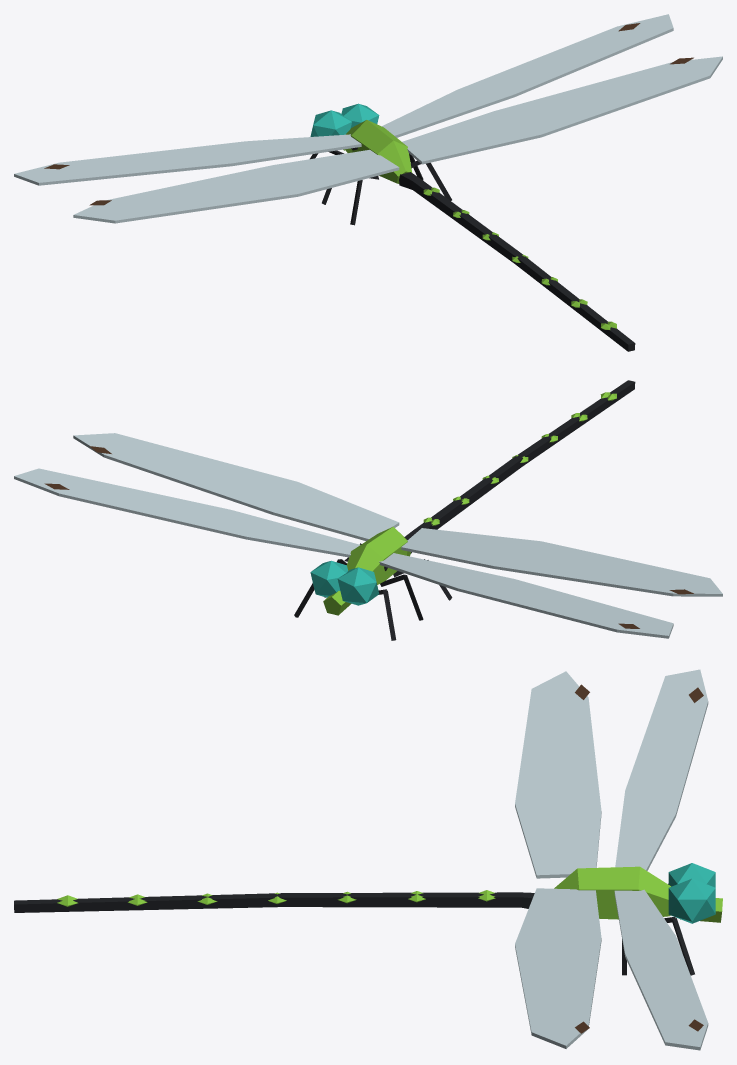
Rendered from libelula.glb.
3 views of the same model, one above another, from view 1: azimuth 30°, elevation 25°; view 2: azimuth 150°, elevation 25°; view 3: azimuth 270°, elevation 25° (orthographic). The views are drawn at different scales.
Parts seen in each view (by area): view 1: corpo; view 2: corpo; view 3: corpo.
Boxes of the visible parts, bbox=[...] form: corpo: bbox=[14, 14, 722, 351]; corpo: bbox=[14, 380, 722, 640]; corpo: bbox=[14, 669, 722, 1050].
Bounding box in the file's own units: 1 × 0.1114 × 0.7932.
